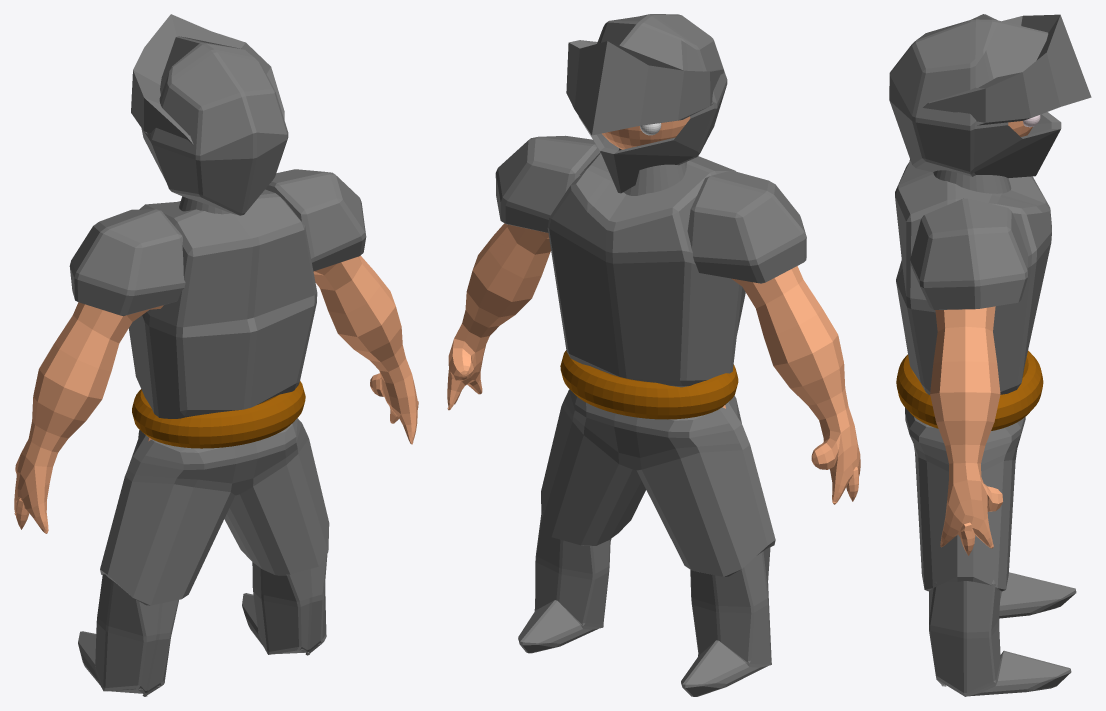
File: PersonajePpal.fbx
3 renders of one model, left to right at view 1: azimuth 30°, elevation 25°; view 2: azimuth 150°, elevation 25°; view 3: azimuth 270°, elevation 25°, orthographic. The views are drawn at different scales.
Visible parts, largest first — view 1: ArmaduraPecho, ArmaduraPierna, Casco, Cuerpo, Cube.001, Botin.001, Botin, Cube, Cinturon; view 2: ArmaduraPecho, ArmaduraPierna, Cuerpo, Casco, Cube.001, Botin.001, Botin, Cube, Cinturon, Cuello, Sphere; view 3: Casco, ArmaduraPecho, Cuerpo, Cube, ArmaduraPierna, Botin, Cinturon, Botin.001, Cuello.
Boxes of the visible parts, x1=… form: ArmaduraPecho: x1=129, y1=189, x2=317, y2=418; ArmaduraPierna: x1=100, y1=418, x2=329, y2=605; Casco: x1=131, y1=14, x2=288, y2=215; Cuerpo: x1=14, y1=255, x2=418, y2=533; Cube.001: x1=69, y1=209, x2=185, y2=316; Botin.001: x1=78, y1=574, x2=178, y2=696; Botin: x1=242, y1=543, x2=327, y2=655; Cube: x1=265, y1=169, x2=366, y2=271; Cinturon: x1=132, y1=381, x2=305, y2=448; ArmaduraPecho: x1=547, y1=152, x2=745, y2=387; ArmaduraPierna: x1=541, y1=389, x2=775, y2=576; Cuerpo: x1=447, y1=223, x2=860, y2=504; Casco: x1=566, y1=14, x2=727, y2=193; Cube.001: x1=687, y1=170, x2=806, y2=283; Botin.001: x1=681, y1=547, x2=771, y2=696; Botin: x1=518, y1=512, x2=611, y2=653; Cube: x1=495, y1=135, x2=600, y2=232; Cinturon: x1=560, y1=350, x2=738, y2=419; Cuello: x1=618, y1=148, x2=686, y2=195; Sphere: x1=602, y1=116, x2=690, y2=149; Casco: x1=889, y1=14, x2=1091, y2=178; ArmaduraPecho: x1=895, y1=160, x2=1051, y2=394; Cuerpo: x1=930, y1=306, x2=1002, y2=555; Cube: x1=910, y1=198, x2=1028, y2=309; ArmaduraPierna: x1=905, y1=407, x2=1025, y2=591; Botin: x1=929, y1=580, x2=1071, y2=696; Cinturon: x1=896, y1=350, x2=1043, y2=430; Botin.001: x1=999, y1=572, x2=1076, y2=618; Cuello: x1=933, y1=170, x2=1011, y2=193.
Size of the model in its own units: 670 by 993 by 286.
